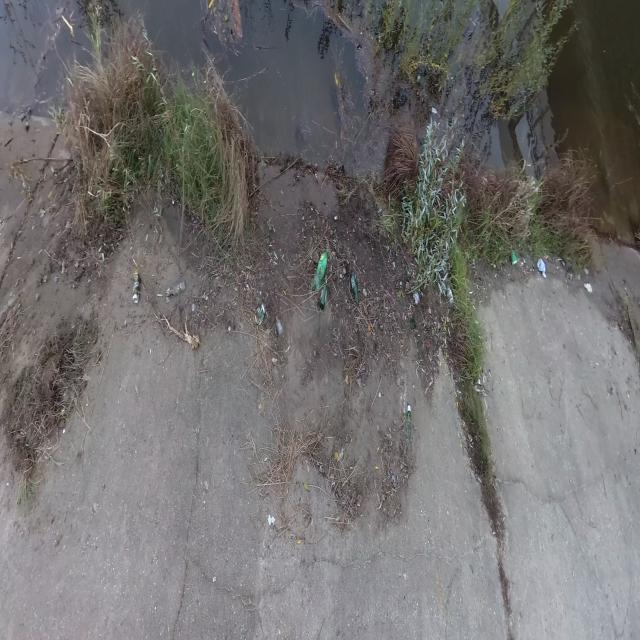rubbish: (312, 249, 329, 291), (347, 270, 359, 306), (254, 300, 267, 326), (168, 280, 186, 296), (319, 279, 327, 313), (446, 281, 455, 309), (275, 311, 285, 336), (132, 274, 140, 304), (537, 259, 546, 278), (509, 250, 517, 266)
